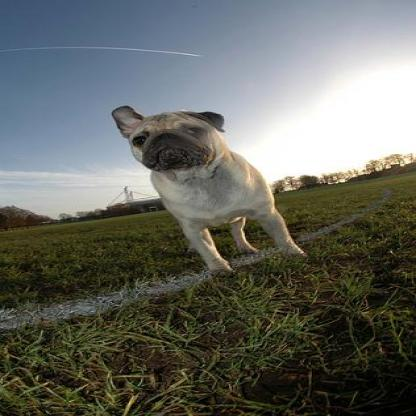pug: (105, 102, 307, 274)
